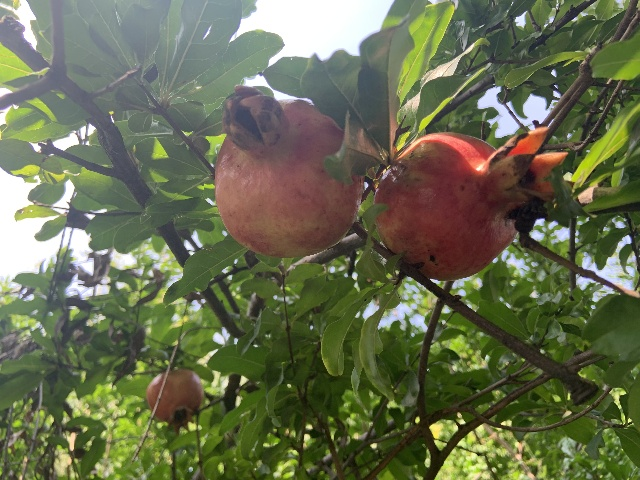ripe: (374, 125, 568, 281), (213, 84, 362, 258), (146, 367, 203, 434)
